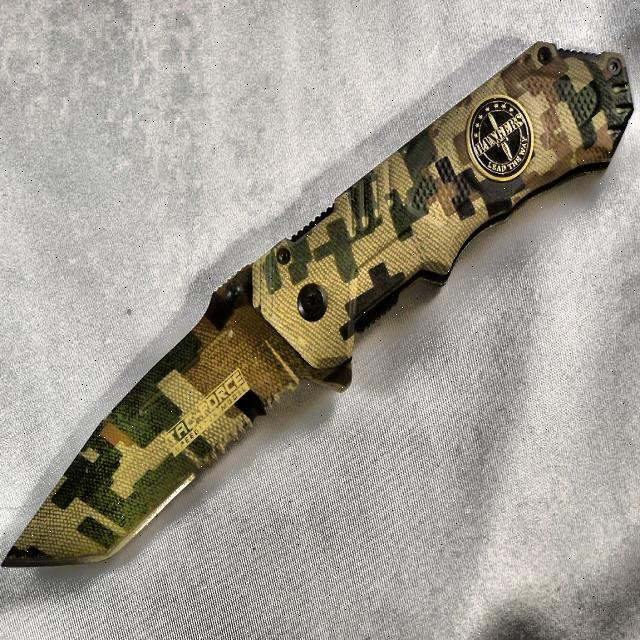knife: (5, 44, 634, 566)
